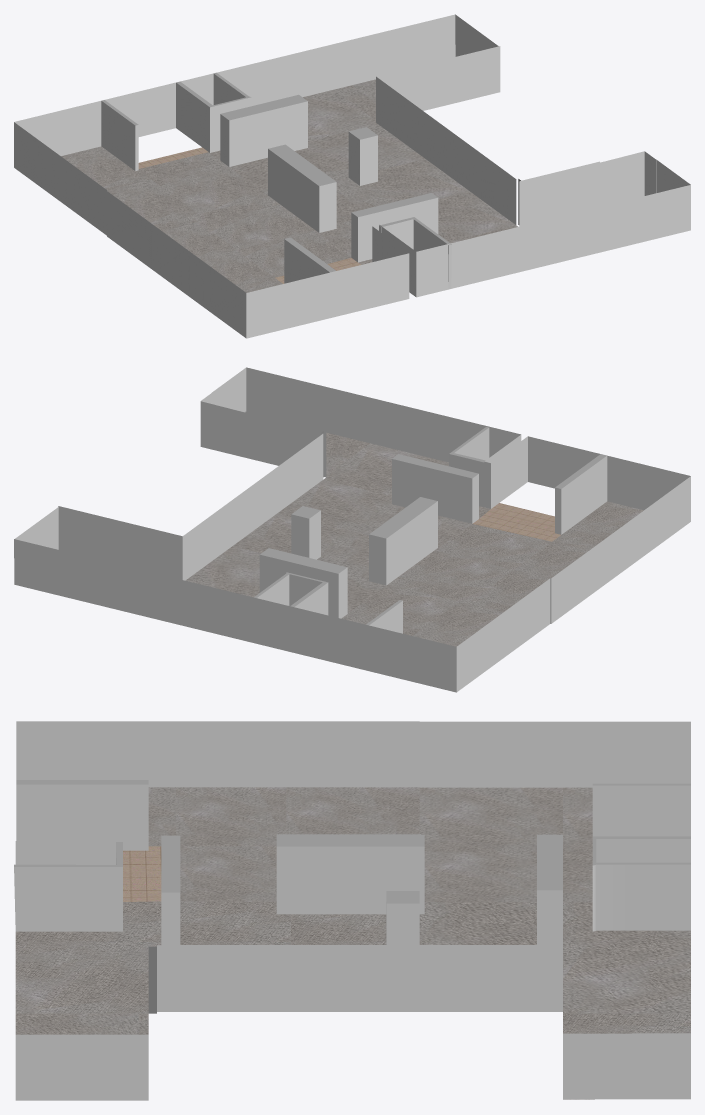
The model's file is 2floor.fbx.
3 views of the same model, one above another, from view 1: azimuth 30°, elevation 25°; view 2: azimuth 150°, elevation 25°; view 3: azimuth 270°, elevation 25° (orthographic). The views are drawn at different scales.
Visible parts, largest first — view 1: floor; view 2: floor; view 3: floor.
Part boxes in pixels (box(x1,y1,x2,y2)): floor: box(14, 14, 690, 338); floor: box(14, 367, 690, 692); floor: box(14, 721, 690, 1100).
Bounding box in the file's own units: 0.4986 × 0.0602 × 0.455.
2 materials, 1 textured.
